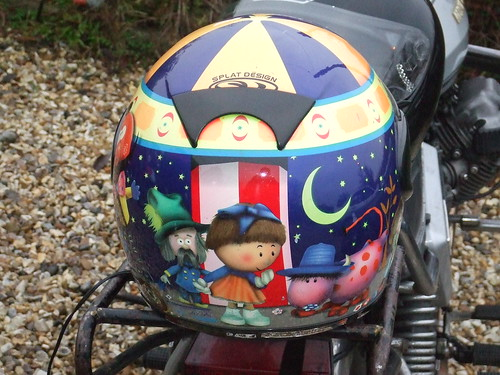helmet: (84, 12, 419, 340)
